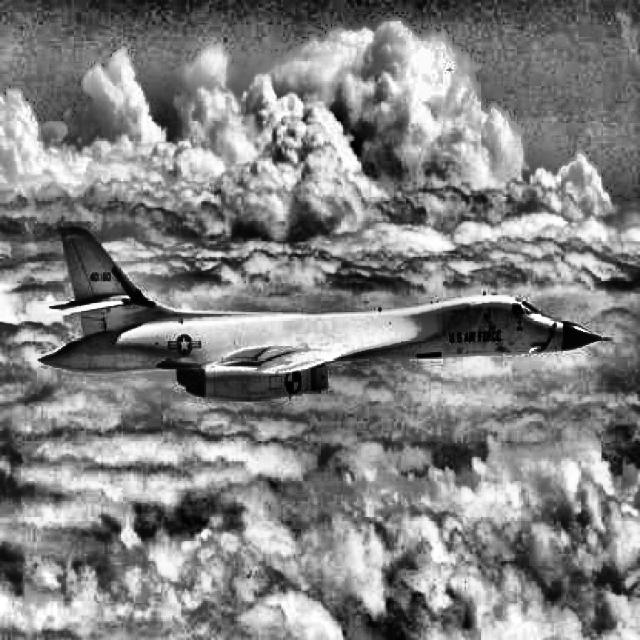B1: (38, 226, 612, 402)
